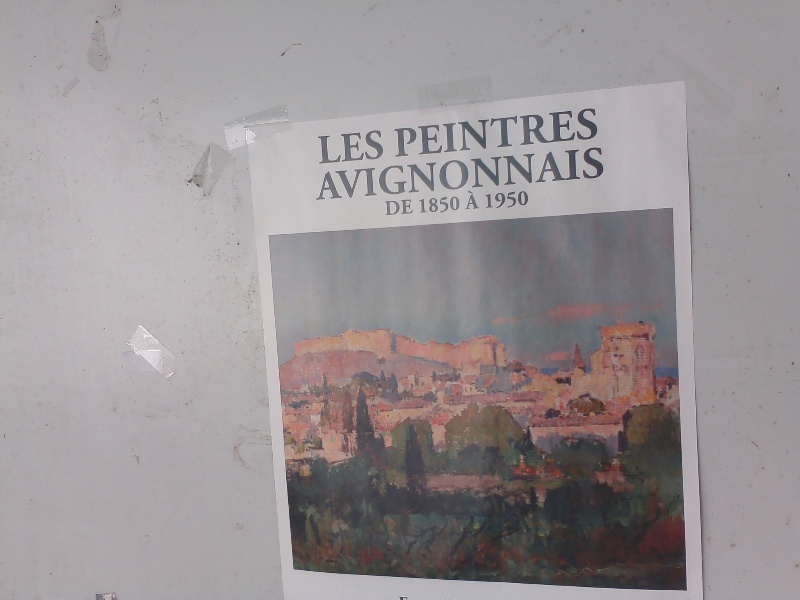text: (321, 146, 336, 201), (337, 146, 352, 201), (353, 146, 368, 201), (369, 146, 384, 201), (385, 146, 400, 201), (401, 146, 416, 201), (417, 146, 432, 201), (433, 146, 448, 201), (449, 146, 464, 201), (465, 146, 480, 201), (481, 146, 496, 201), (497, 146, 512, 201), (513, 146, 528, 201), (529, 146, 544, 201), (545, 146, 560, 201), (561, 146, 576, 201), (577, 146, 592, 201), (593, 146, 607, 201), (401, 108, 416, 159), (417, 108, 432, 159), (433, 108, 448, 159), (449, 108, 464, 159), (465, 108, 480, 159), (481, 108, 496, 159), (497, 108, 512, 159), (513, 108, 528, 159), (529, 108, 544, 159), (545, 108, 560, 159), (561, 108, 576, 159), (577, 108, 592, 159), (593, 108, 604, 159), (321, 129, 336, 165), (337, 129, 352, 165), (353, 129, 368, 165), (369, 129, 384, 165), (392, 108, 400, 159), (465, 190, 481, 211), (497, 190, 512, 210), (513, 190, 528, 210), (385, 199, 400, 217), (433, 196, 448, 214), (484, 190, 496, 210), (401, 199, 414, 217), (419, 196, 432, 214), (449, 196, 462, 214), (316, 146, 320, 201), (317, 129, 320, 165), (529, 190, 531, 210), (385, 129, 386, 165)
